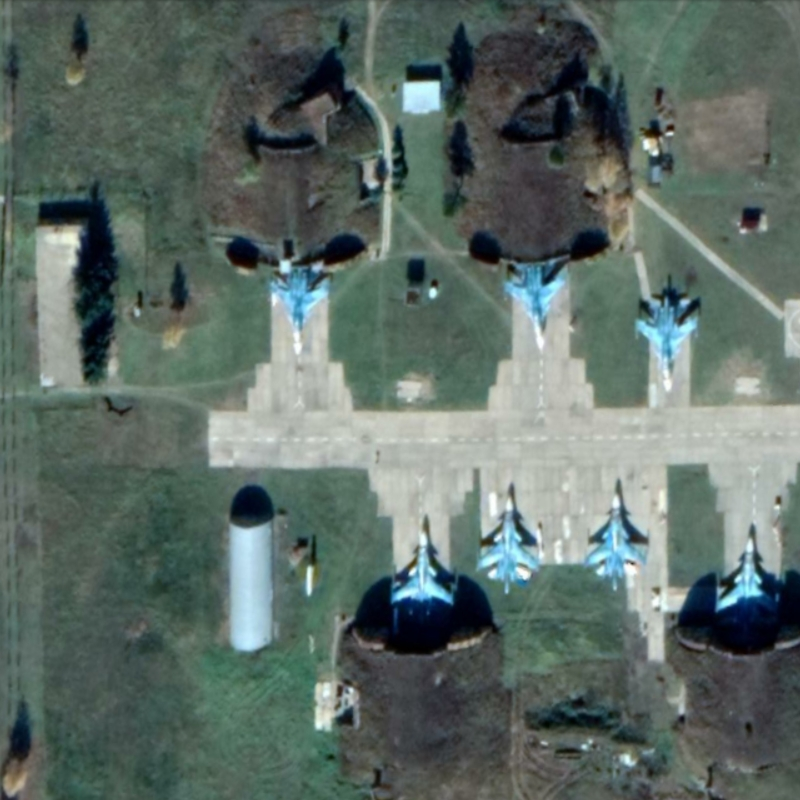A19: (388, 528, 459, 628), (632, 293, 701, 394), (581, 492, 650, 593), (712, 535, 783, 633), (475, 494, 543, 596), (501, 258, 569, 354), (266, 261, 333, 358)
